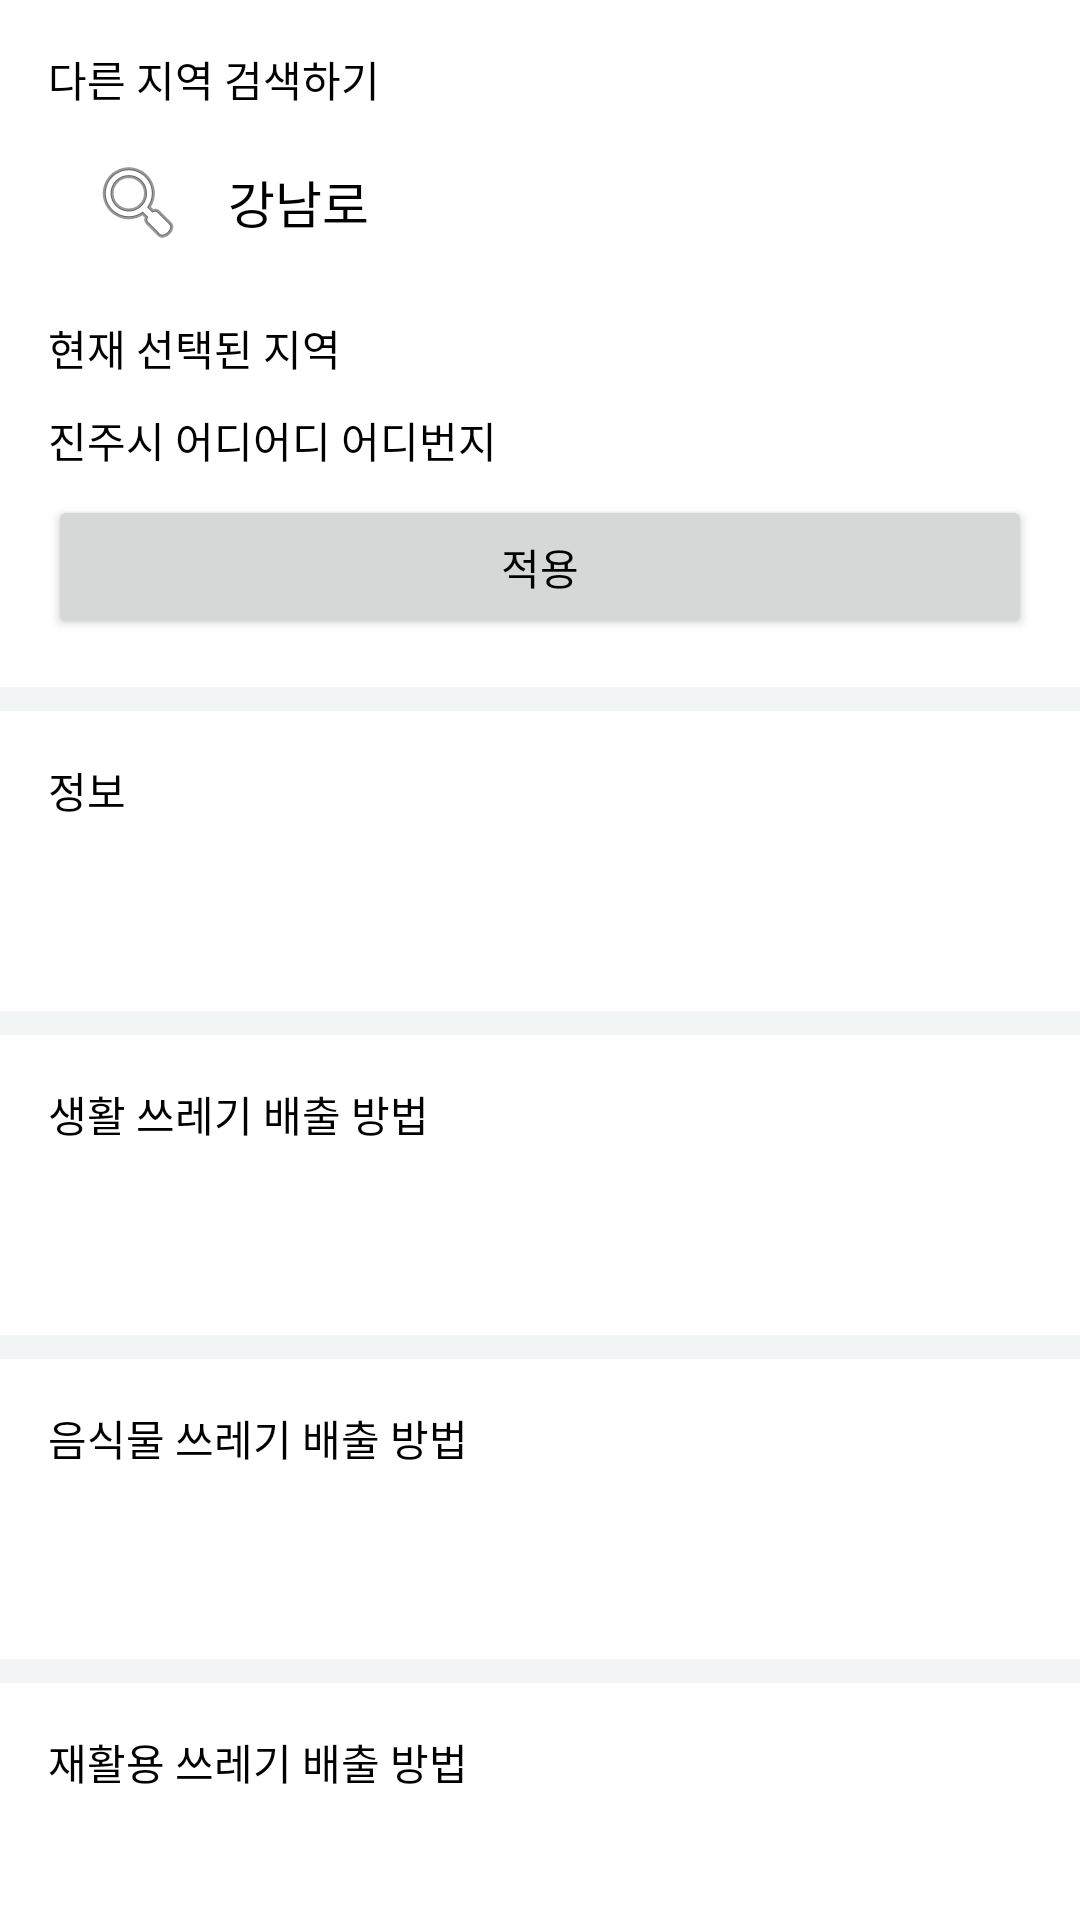

Screen size 1080 x 1920. Icon name, then its center in pixels as (x,y):
search: (138,202)
